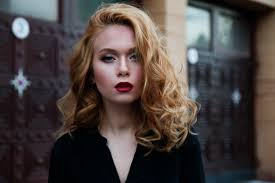bare: (92, 65, 147, 104)
